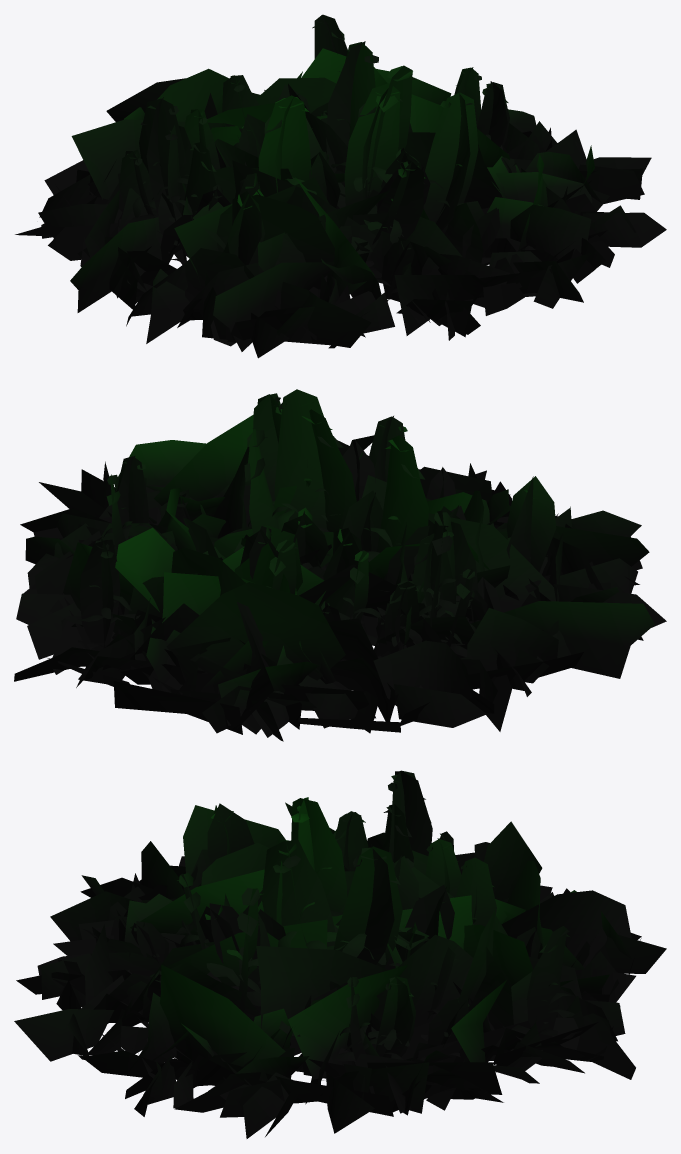
Rendered from Grass Mixed_I.fbx.
3 renders of one model, top to bottom at view 1: azimuth 30°, elevation 25°; view 2: azimuth 150°, elevation 25°; view 3: azimuth 270°, elevation 25°, orthographic. The views are drawn at different scales.
Visible parts, largest first — view 1: Grass MixedI_G_LOD0, Grass MixedI_F_LOD0; view 2: Grass MixedI_G_LOD0, Grass MixedI_F_LOD0; view 3: Grass MixedI_G_LOD0, Grass MixedI_F_LOD0.
Boxes of the visible parts, x1,y1,x2,y2 form: Grass MixedI_G_LOD0: [15, 48, 666, 358]; Grass MixedI_F_LOD0: [117, 14, 516, 299]; Grass MixedI_G_LOD0: [14, 414, 666, 741]; Grass MixedI_F_LOD0: [64, 389, 556, 661]; Grass MixedI_G_LOD0: [14, 802, 666, 1138]; Grass MixedI_F_LOD0: [131, 770, 582, 1062].
Size of what is drawn, in the model's own units: 2.99 by 0.9856 by 2.75.
